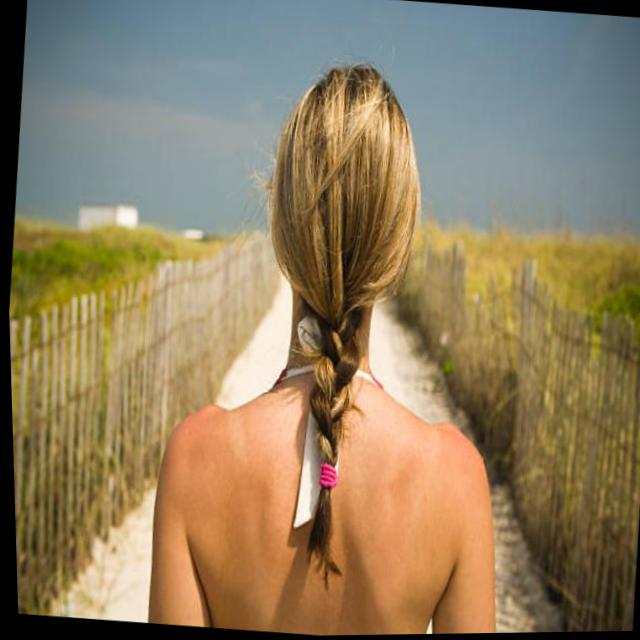no helmet: (252, 57, 430, 376)
